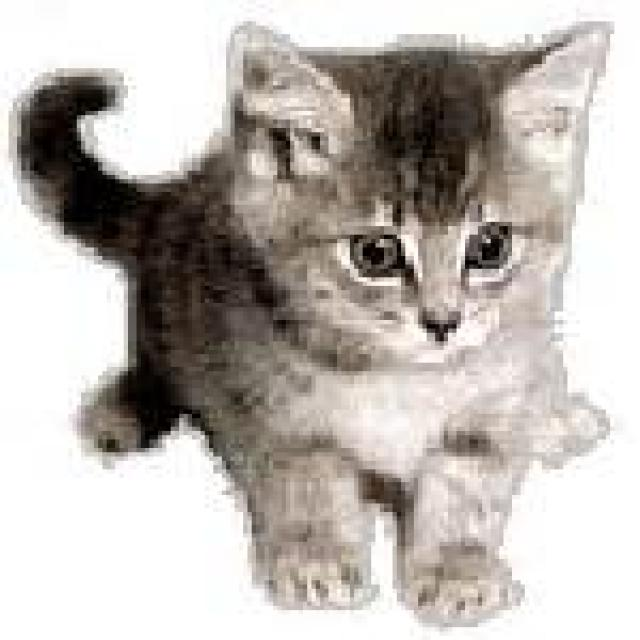cat: (18, 20, 612, 623)
